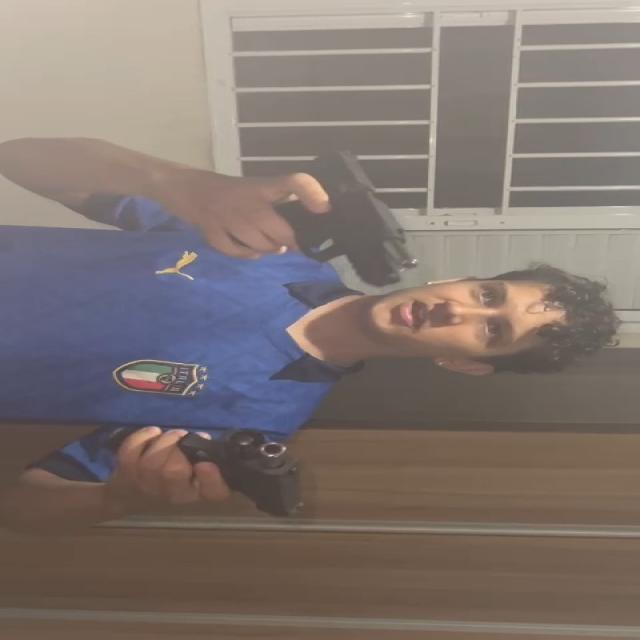gun: (288, 150, 420, 288), (178, 421, 305, 519)
